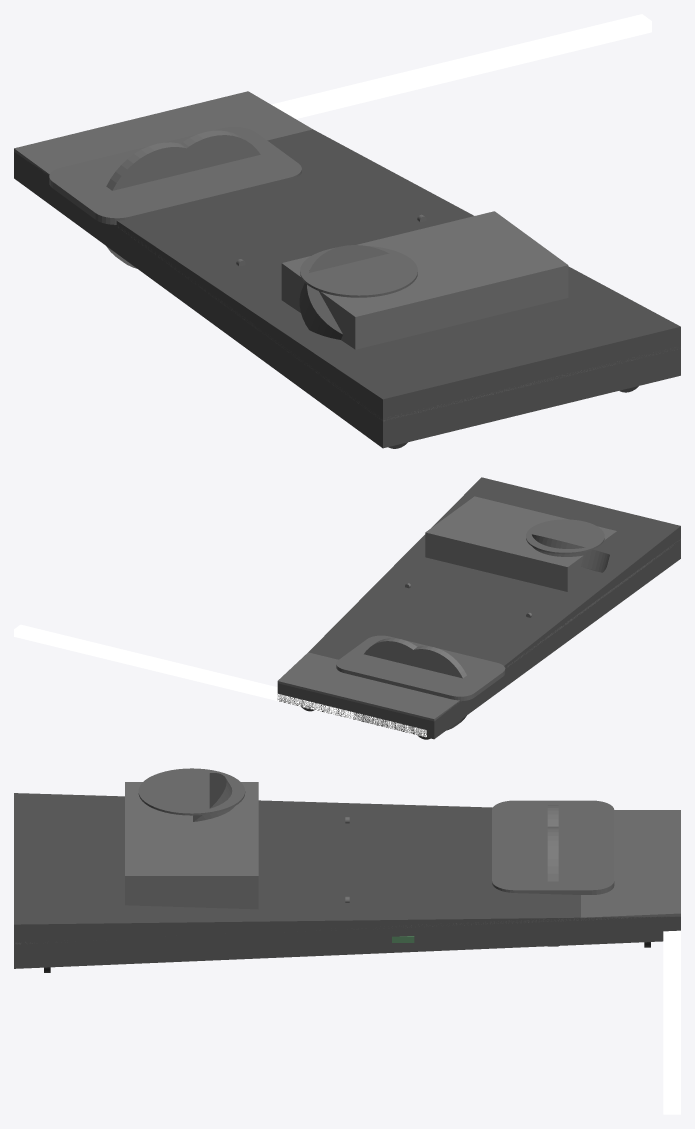
File: quad-dock-model.glb
3 views of the same model, one above another, from view 1: azimuth 30°, elevation 25°; view 2: azimuth 150°, elevation 25°; view 3: azimuth 270°, elevation 25° (orthographic). The views are drawn at different scales.
Visible parts, largest first — view 1: body, psu_cavity, top_plate, led_channel, zone1_pocket, zone3_silicone, zone2_pocket, qi_coil_z1, zone3_pod, qi_coil_z2, iec_inlet; view 2: body, psu_cavity, top_plate, led_channel, zone1_pocket, zone3_silicone, zone2_pocket, qi_coil_z1, qi_coil_z2, zone3_pod; view 3: body, psu_cavity, zone1_pocket, top_plate, zone2_pocket, zone3_silicone, led_channel, zone3_pod, qi_coil_z2.
Boxes of the visible parts, left/top/right/bottom form: body: left=14, top=129, right=680, bottom=448; psu_cavity: left=281, top=211, right=568, bottom=349; top_plate: left=14, top=91, right=680, bottom=421; led_channel: left=271, top=14, right=651, bottom=118; zone1_pocket: left=49, top=135, right=266, bottom=224; zone3_silicone: left=300, top=246, right=417, bottom=297; zone2_pocket: left=114, top=127, right=301, bottom=203; qi_coil_z1: left=106, top=142, right=211, bottom=268; zone3_pod: left=299, top=245, right=389, bottom=339; qi_coil_z2: left=161, top=130, right=260, bottom=178; iec_inlet: left=502, top=358, right=561, bottom=415; body: left=277, top=477, right=680, bottom=739; psu_cavity: left=425, top=496, right=616, bottom=591; top_plate: left=277, top=539, right=680, bottom=721; led_channel: left=14, top=624, right=426, bottom=737; zone1_pocket: left=358, top=641, right=505, bottom=701; zone3_silicone: left=526, top=519, right=604, bottom=554; zone2_pocket: left=336, top=635, right=447, bottom=687; qi_coil_z1: left=397, top=646, right=466, bottom=730; qi_coil_z2: left=364, top=638, right=428, bottom=669; zone3_pod: left=532, top=534, right=609, bottom=572; body: left=14, top=793, right=680, bottom=968; psu_cavity: left=125, top=782, right=258, bottom=909; zone1_pocket: left=492, top=800, right=614, bottom=875; top_plate: left=15, top=810, right=680, bottom=944; zone2_pocket: left=492, top=829, right=614, bottom=894; zone3_silicone: left=138, top=768, right=245, bottom=815; led_channel: left=663, top=930, right=680, bottom=1114; zone3_pod: left=193, top=773, right=234, bottom=821; qi_coil_z2: left=547, top=826, right=558, bottom=946.
Bounding box in the file's own units: 300 × 68.23 × 300.
